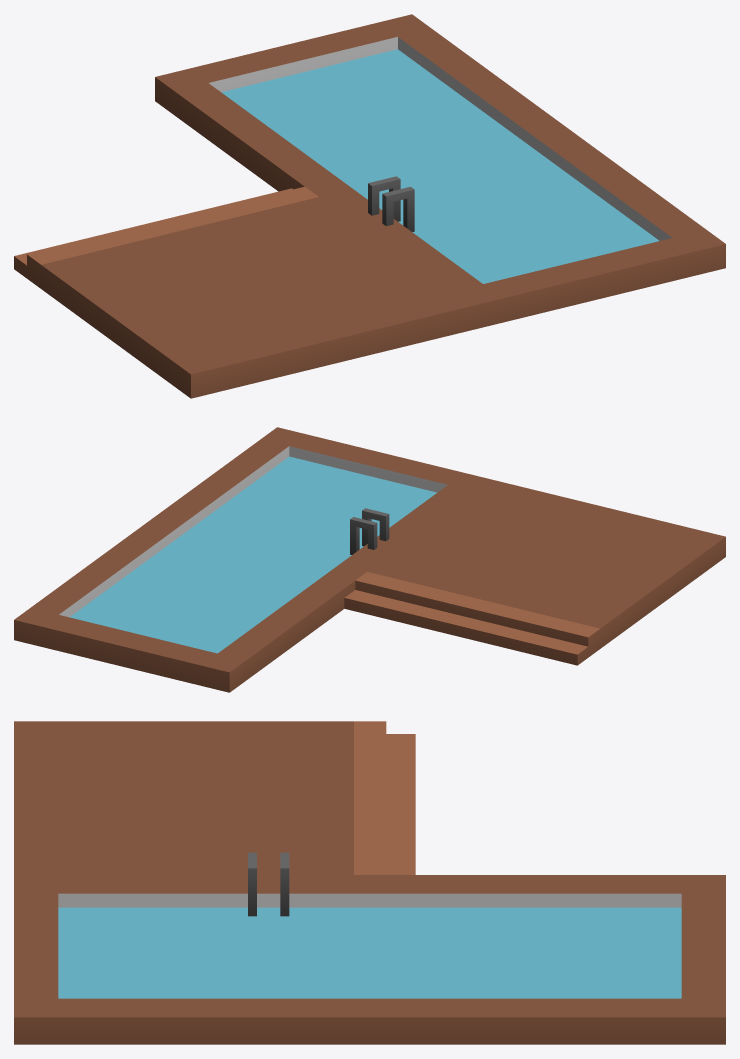
Rendered from swiming pool.fbx.
3 renders of one model, top to bottom at view 1: azimuth 30°, elevation 25°; view 2: azimuth 150°, elevation 25°; view 3: azimuth 270°, elevation 25°, orthographic. The views are drawn at different scales.
Visible parts, largest first — view 1: swimming_pool; view 2: swimming_pool; view 3: swimming_pool.
Part boxes in pixels (x1,y1,x2,y2): swimming_pool: [14, 14, 725, 398]; swimming_pool: [14, 427, 725, 692]; swimming_pool: [14, 721, 725, 1044].
Bounding box in the file's own units: 926 × 89.25 × 941.
Materials: 1 (1 with a texture image).
